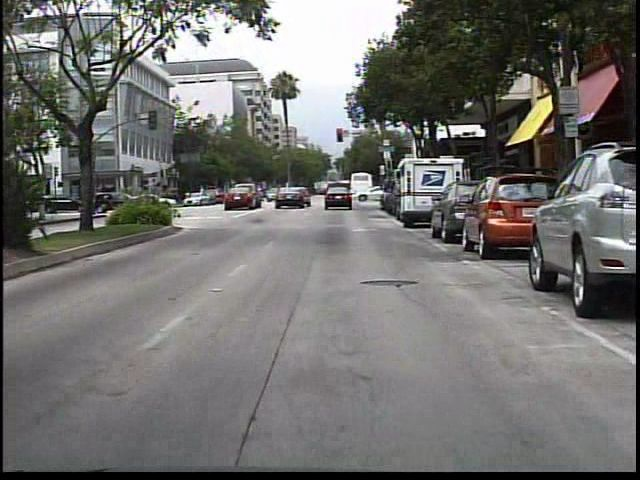person: (271, 182, 286, 206)
